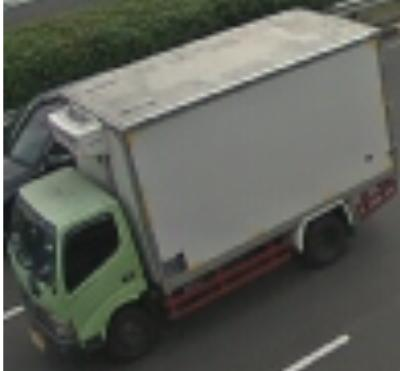truck: (2, 165, 167, 365)
